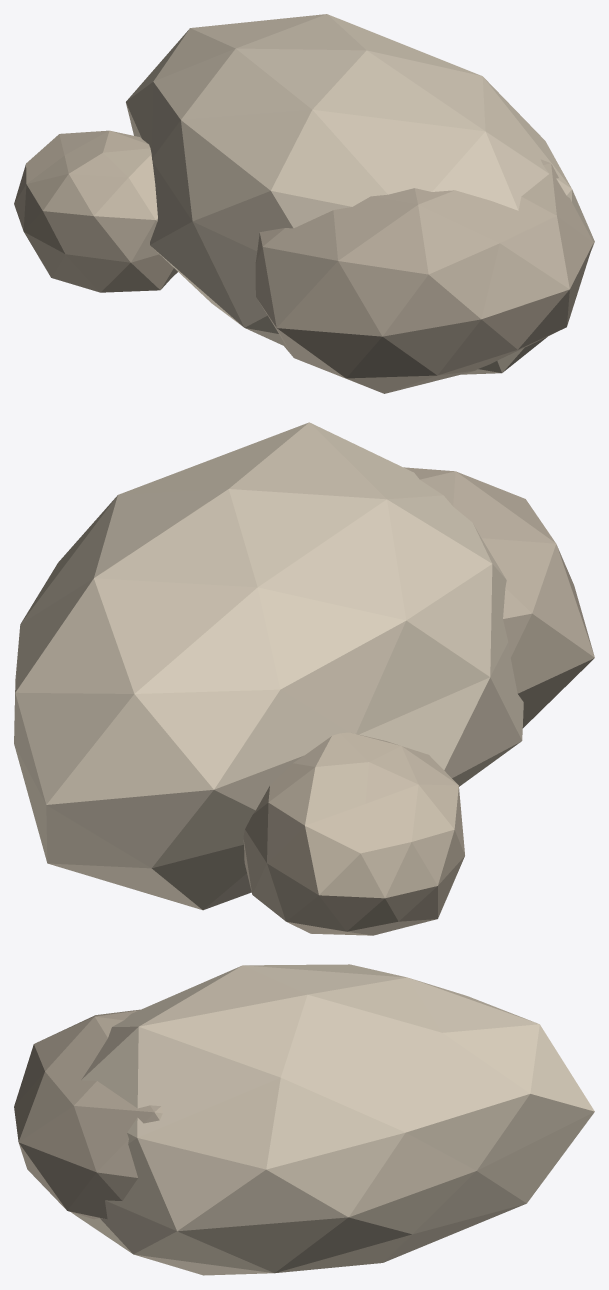
The model's file is campo_rock_cluster_9.glb.
3 views of the same model, one above another, from view 1: azimuth 30°, elevation 25°; view 2: azimuth 150°, elevation 25°; view 3: azimuth 270°, elevation 25° (orthographic). The views are drawn at different scales.
Visible parts, largest first — view 1: campo_rock_cluster_9.glb; view 2: campo_rock_cluster_9.glb; view 3: campo_rock_cluster_9.glb.
Boxes of the visible parts, box(x1,y1,x2,y2) form: campo_rock_cluster_9.glb: box(14, 14, 594, 393); campo_rock_cluster_9.glb: box(14, 422, 594, 935); campo_rock_cluster_9.glb: box(14, 964, 594, 1275).
Size of the model in its own units: 1.79 by 1.2 by 2.36.
